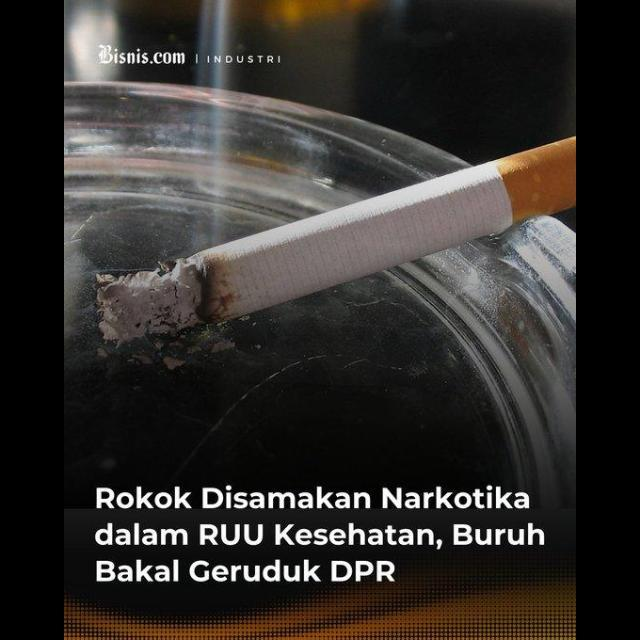rokok: (88, 136, 576, 340)
